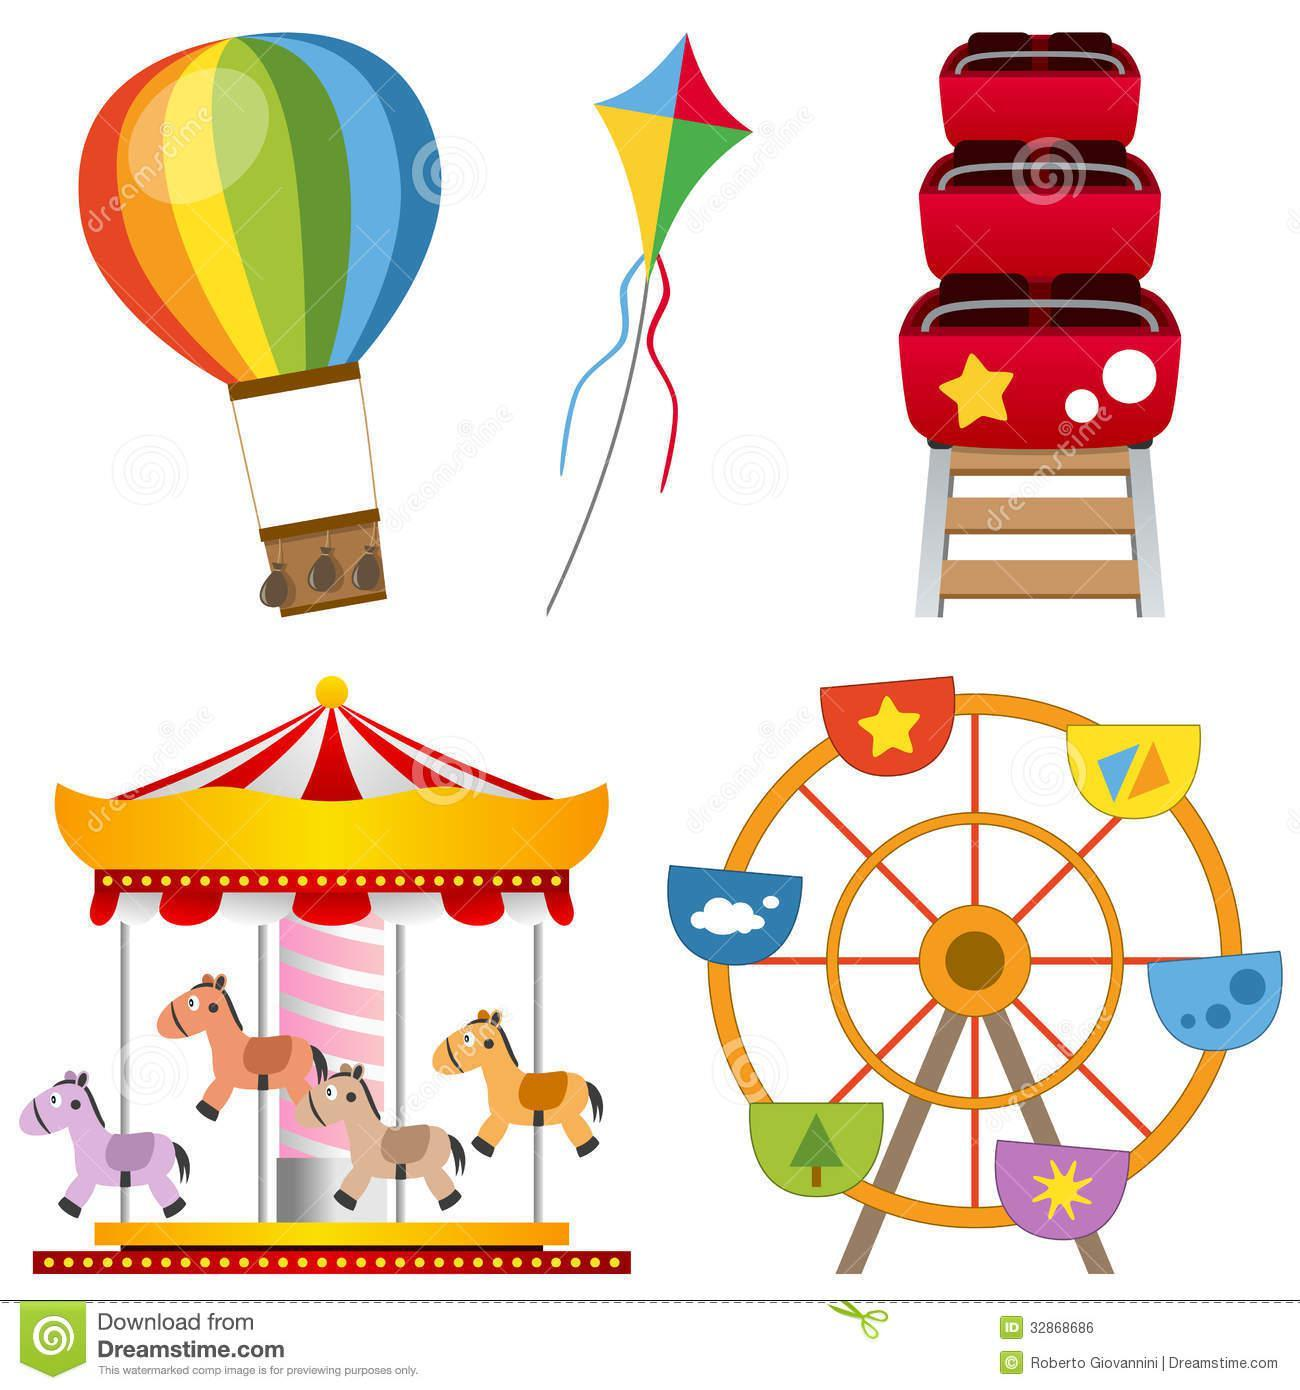horse: (415, 1003, 617, 1179), (23, 1055, 205, 1219), (290, 1069, 473, 1223), (143, 969, 331, 1113)
